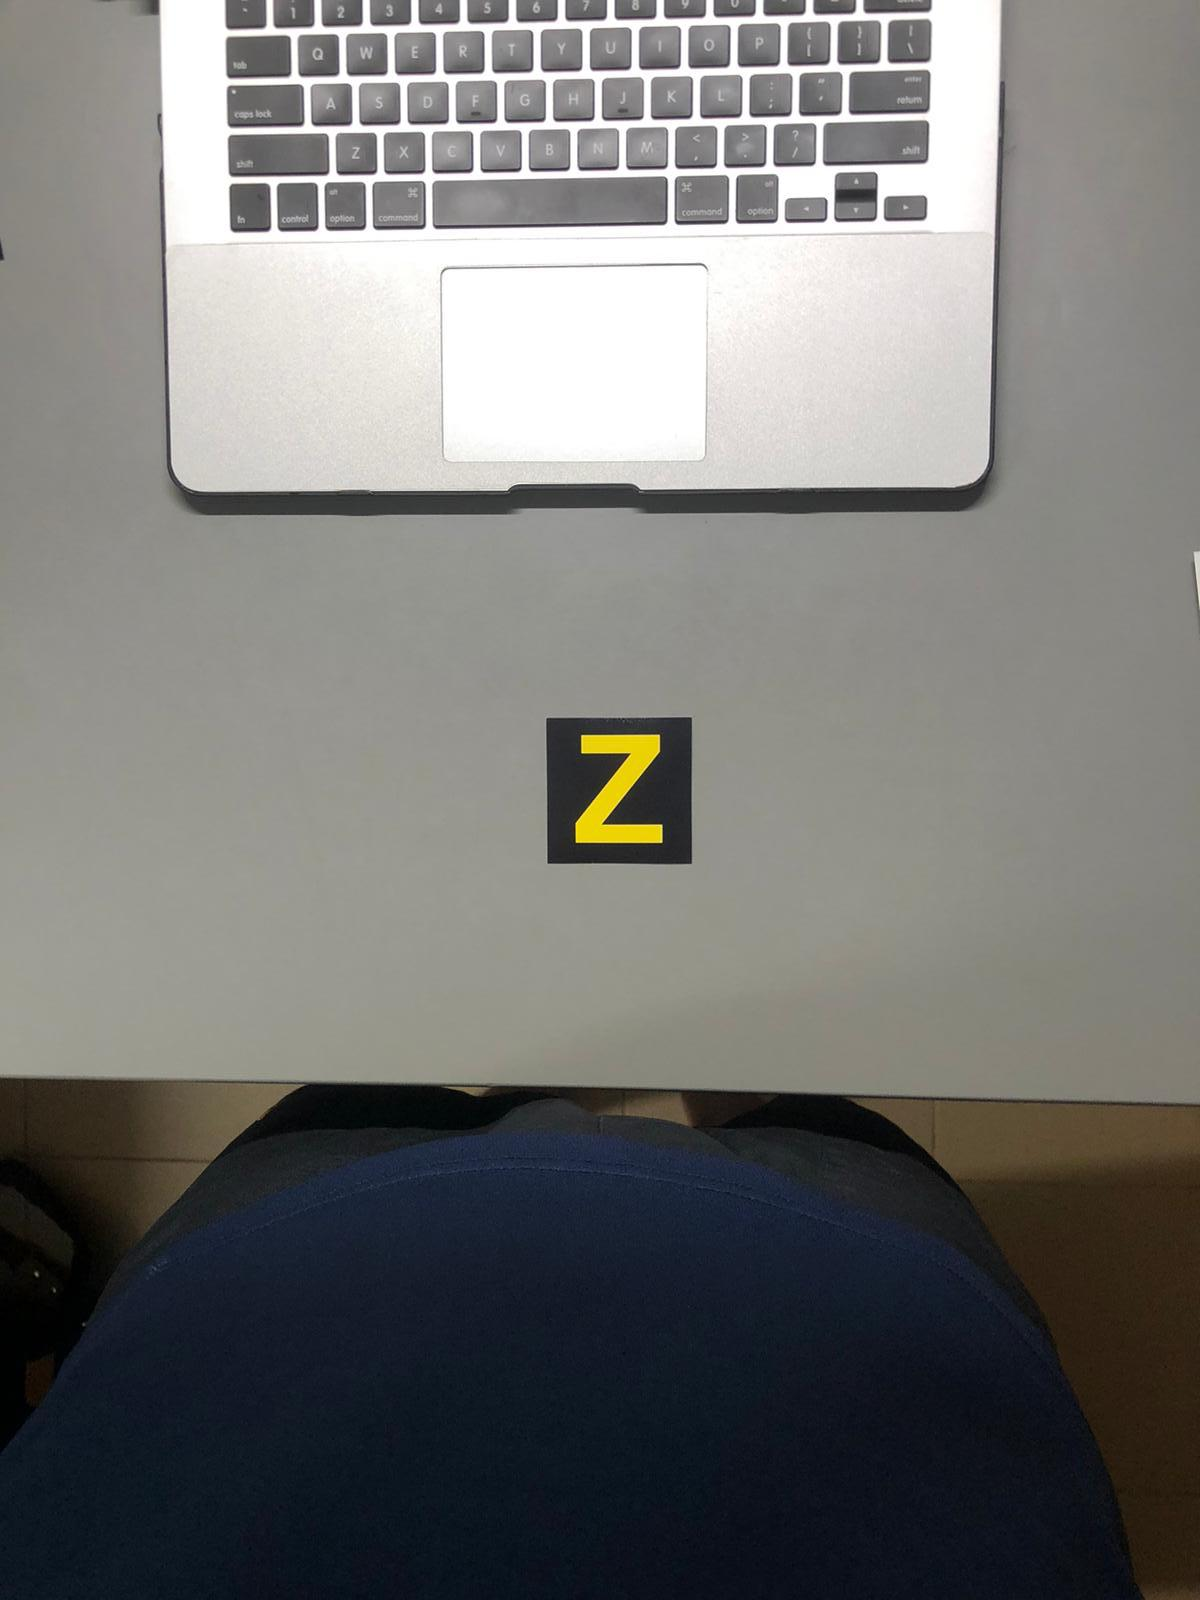Z: (553, 722, 687, 871)
